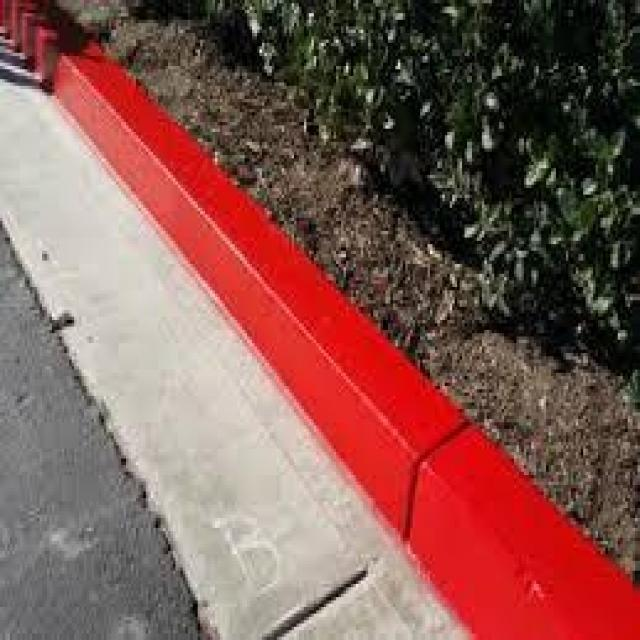bump: (343, 374, 604, 640), (151, 165, 347, 434)
